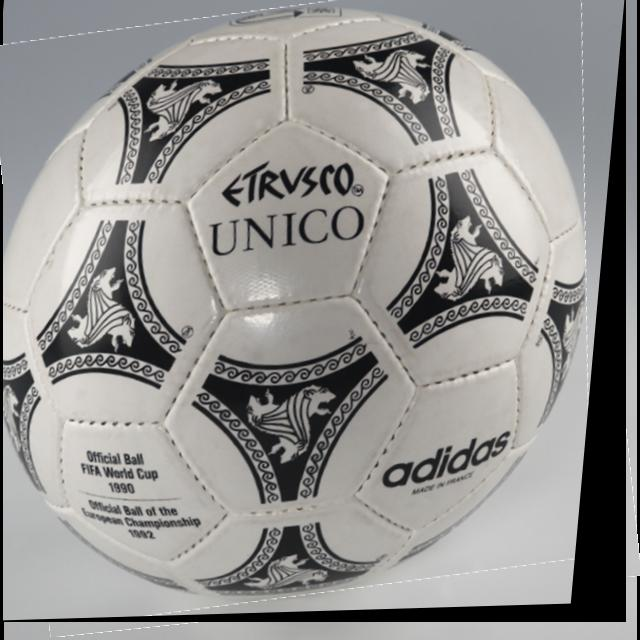Football: (3, 0, 626, 622)
